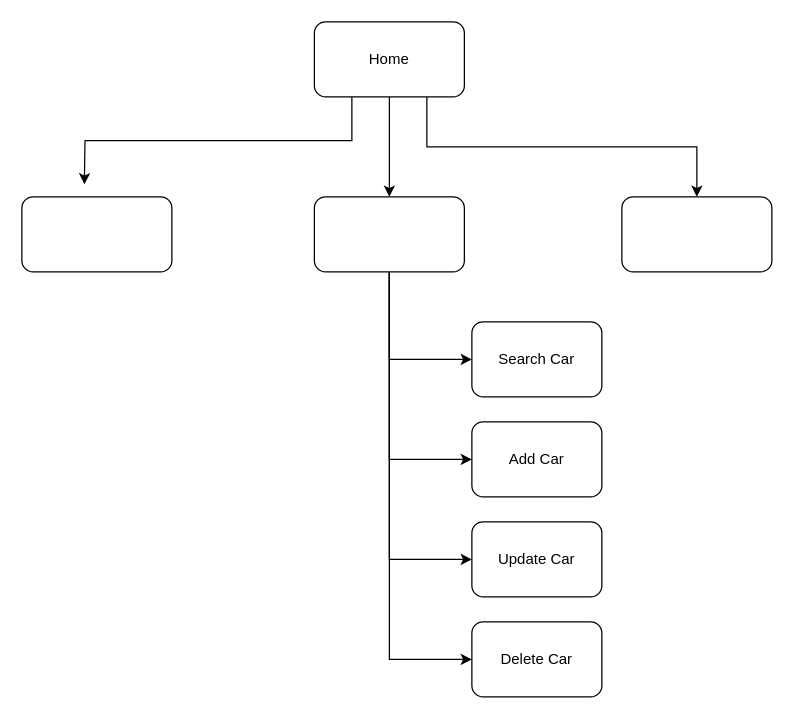
The diagram is 794 pixels wide and 719 high, and some of its shapes have lost their labels. Each missing label, with the centre of its shape:
About: (96,234)
FAQs: (696,234)
View Inventory: (388,234)
